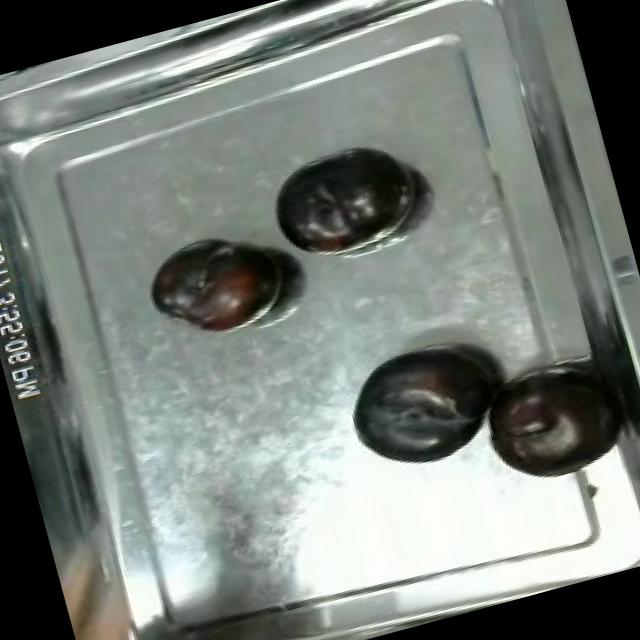Fruit: (332, 326, 512, 484), (256, 129, 427, 268), (470, 357, 628, 496), (135, 218, 295, 350)
